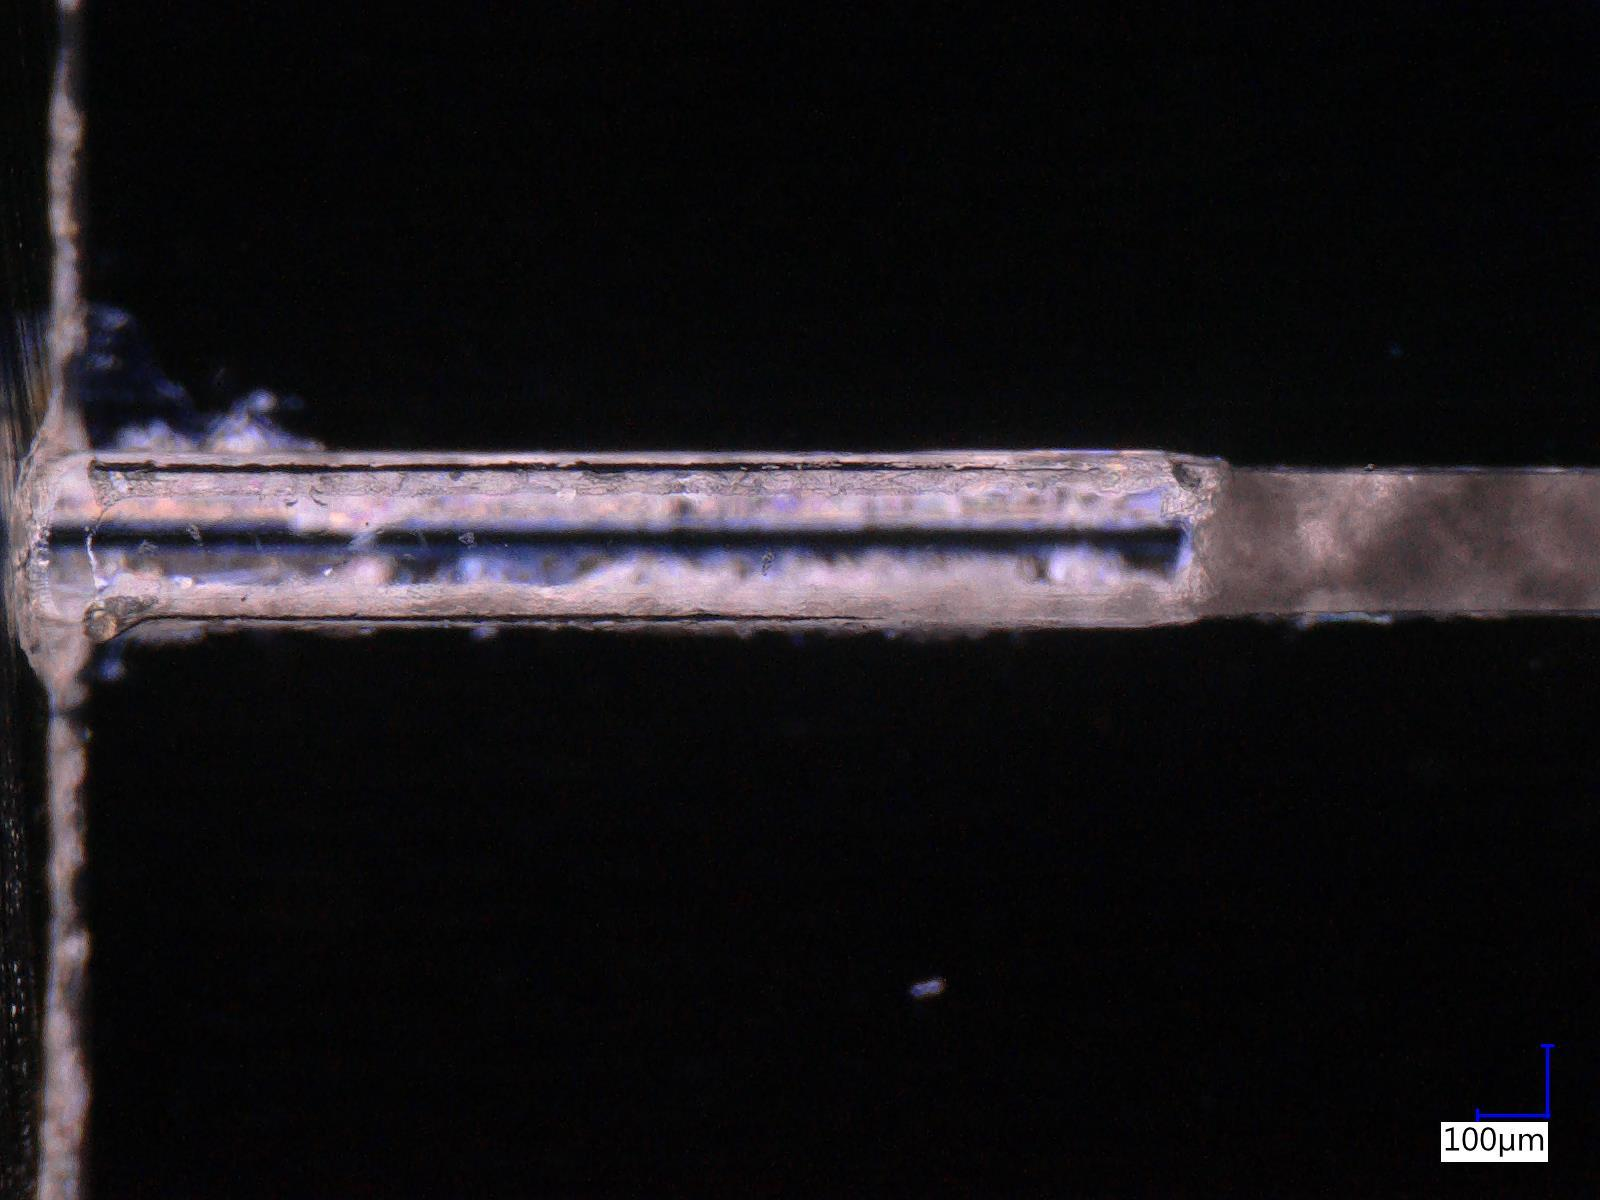sediment: (1230, 469, 1600, 613)
